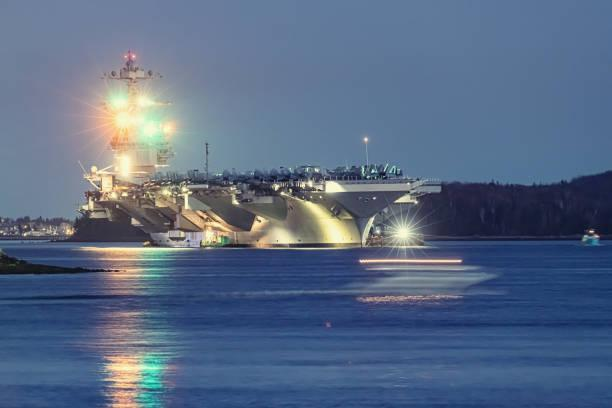MIL_Ship: (83, 45, 448, 252)
